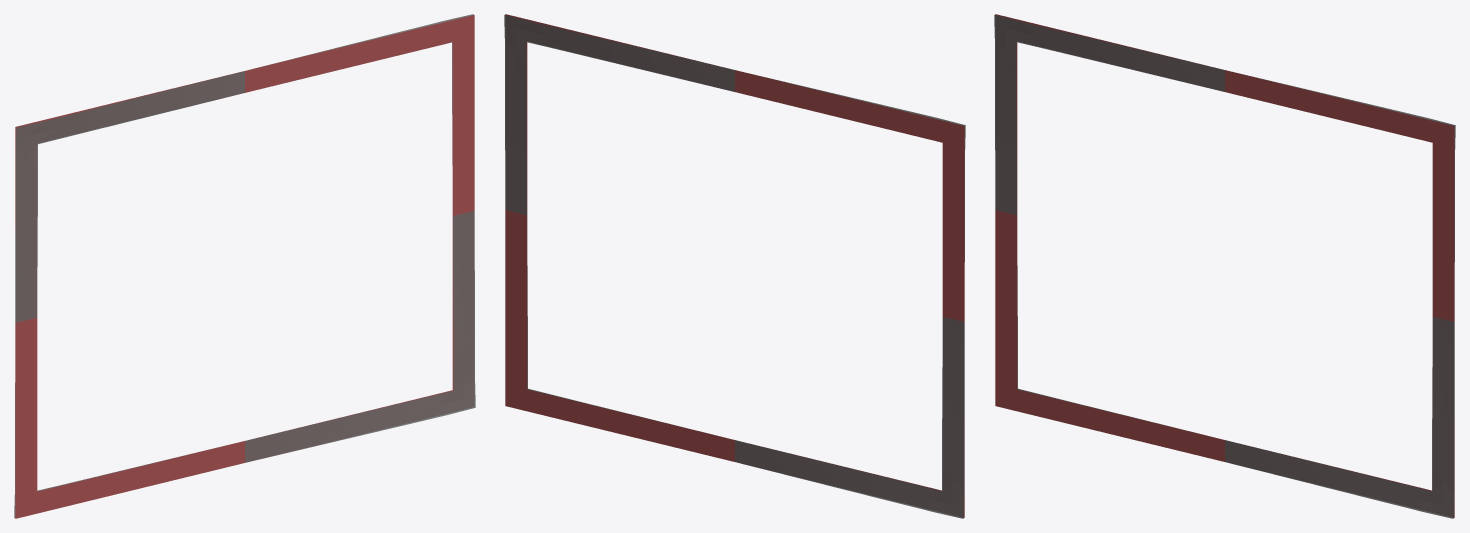
File: warping-box-137-168-8-8-276.glb
3 renders of one model, left to right at view 1: azimuth 30°, elevation 25°; view 2: azimuth 150°, elevation 25°; view 3: azimuth 330°, elevation 25°, orthographic.
Visible parts, largest first — view 1: undeformed cross-section, cross-section with warping; view 2: undeformed cross-section, cross-section with warping; view 3: undeformed cross-section, cross-section with warping.
Boxes of the visible parts, x1,y1,x2,y2 form: undeformed cross-section: (15, 15, 474, 518); cross-section with warping: (14, 14, 475, 517); undeformed cross-section: (505, 14, 964, 517); cross-section with warping: (504, 15, 965, 518); undeformed cross-section: (995, 14, 1454, 517); cross-section with warping: (994, 15, 1455, 518).
Bounding box in the file's own units: 0.168 × 0.137 × 0.00201.
